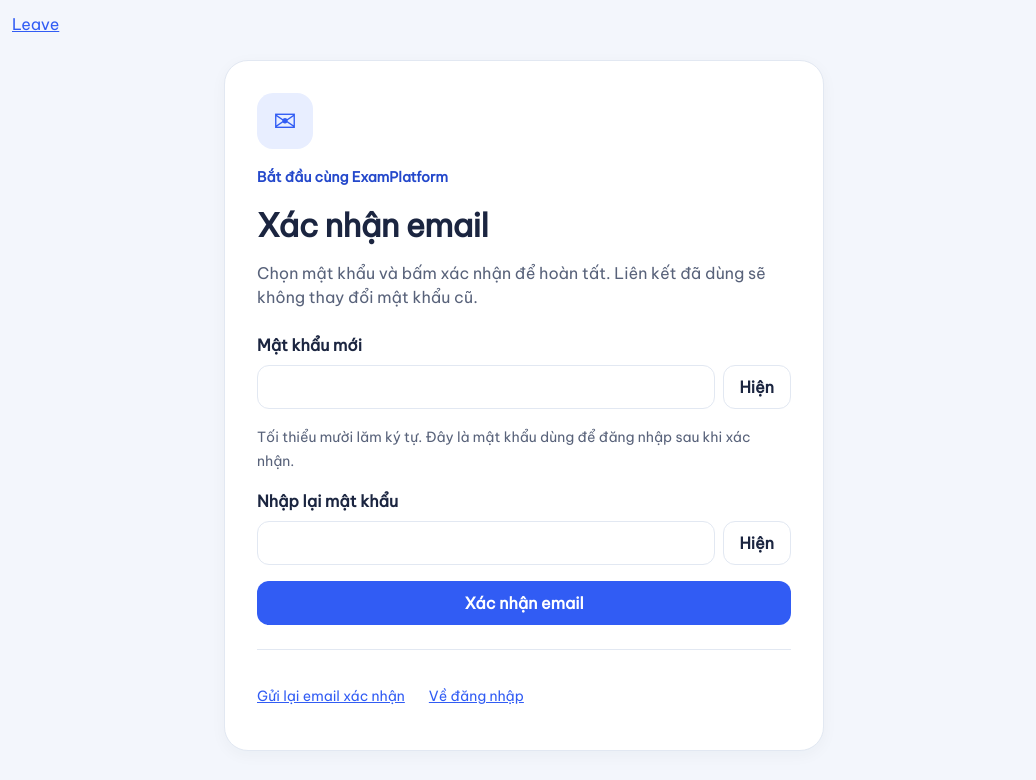
Test case: Identity explicit recovery › does not bypass server verification wait and uses a minimum 60-second cooldown
Type "fixture-password-ok" into the password field labelled "Mật khẩu mới". click: (486, 387)
box: 257,365 -> 714,409
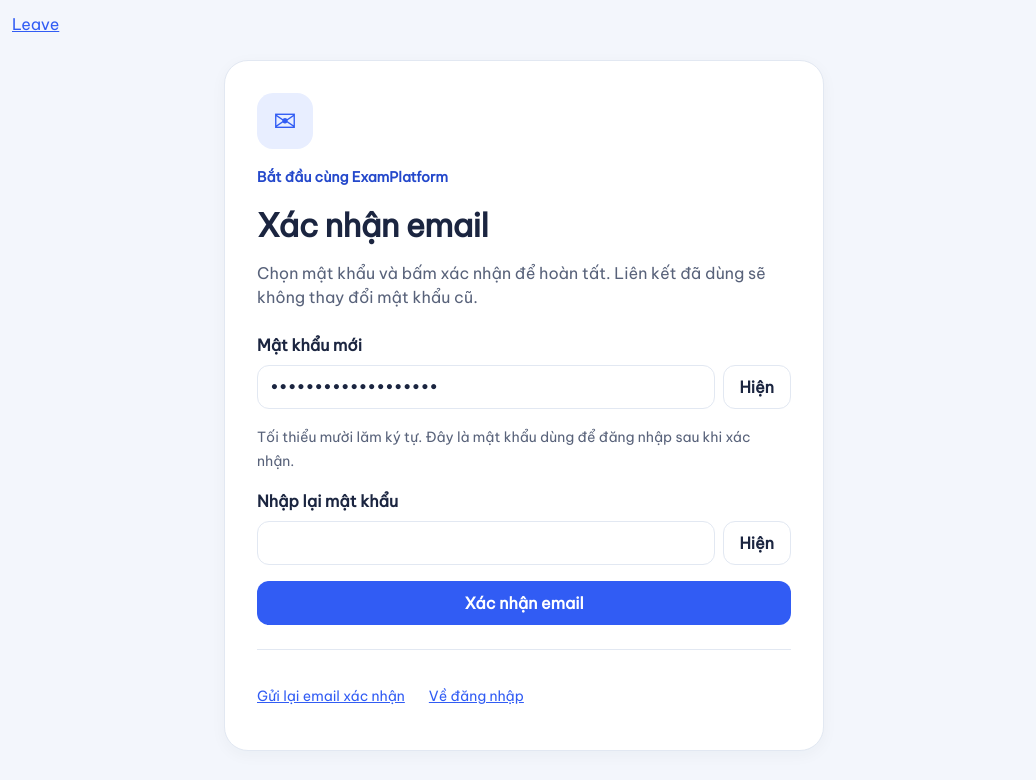
Type "fixture-password-ok" into the password field labelled "Nhập lại mật khẩu". click: (486, 543)
box: 257,521 -> 714,565
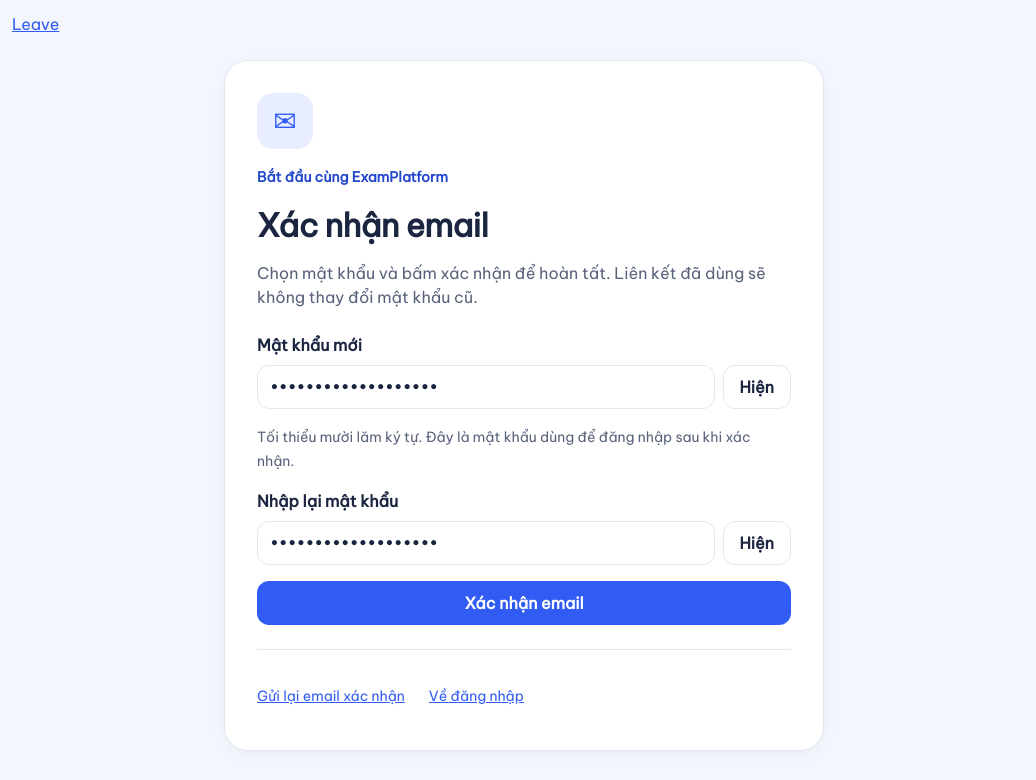
Click the button "Xác nhận email". click: (524, 603)
box: 257,581 -> 791,625
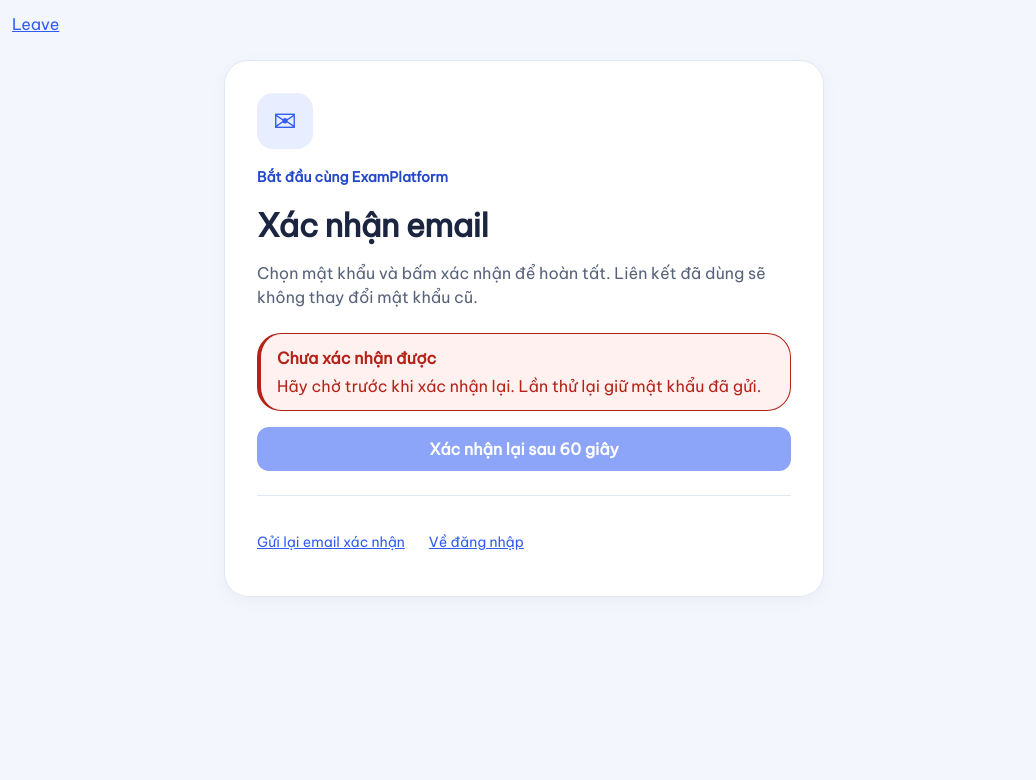
Now the button "Xác nhận lại sau 60 giây" is disabled, box 257,427 -> 791,471
